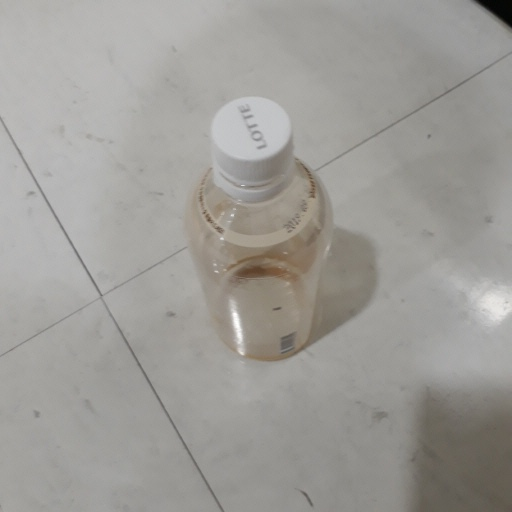Plastic_0: (186, 92, 332, 363)
